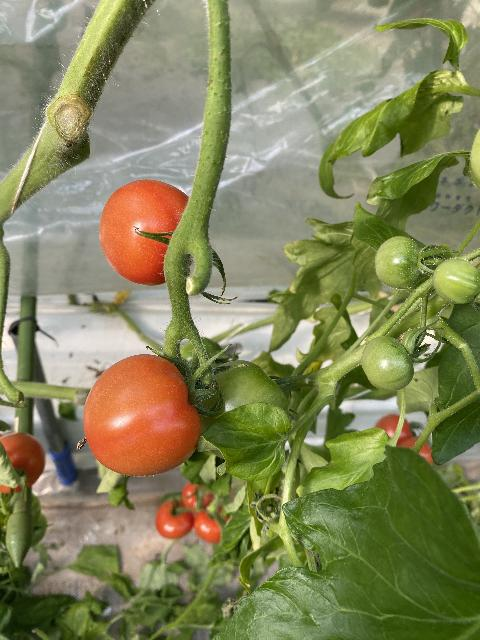l_fully_ripened: (82, 354, 202, 477), (98, 179, 190, 286), (0, 432, 47, 494)
l_green: (199, 365, 290, 433), (361, 335, 414, 391), (376, 236, 421, 290), (432, 256, 480, 304)
